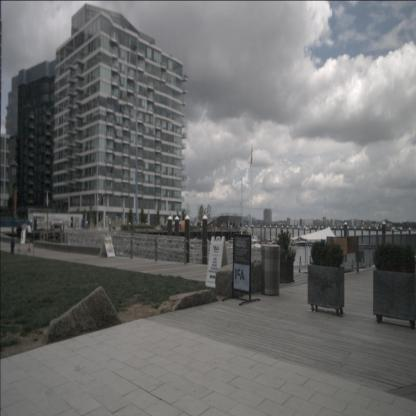human-pedestrian-adult: (16, 222, 23, 251), (26, 222, 31, 251), (229, 224, 232, 232)
